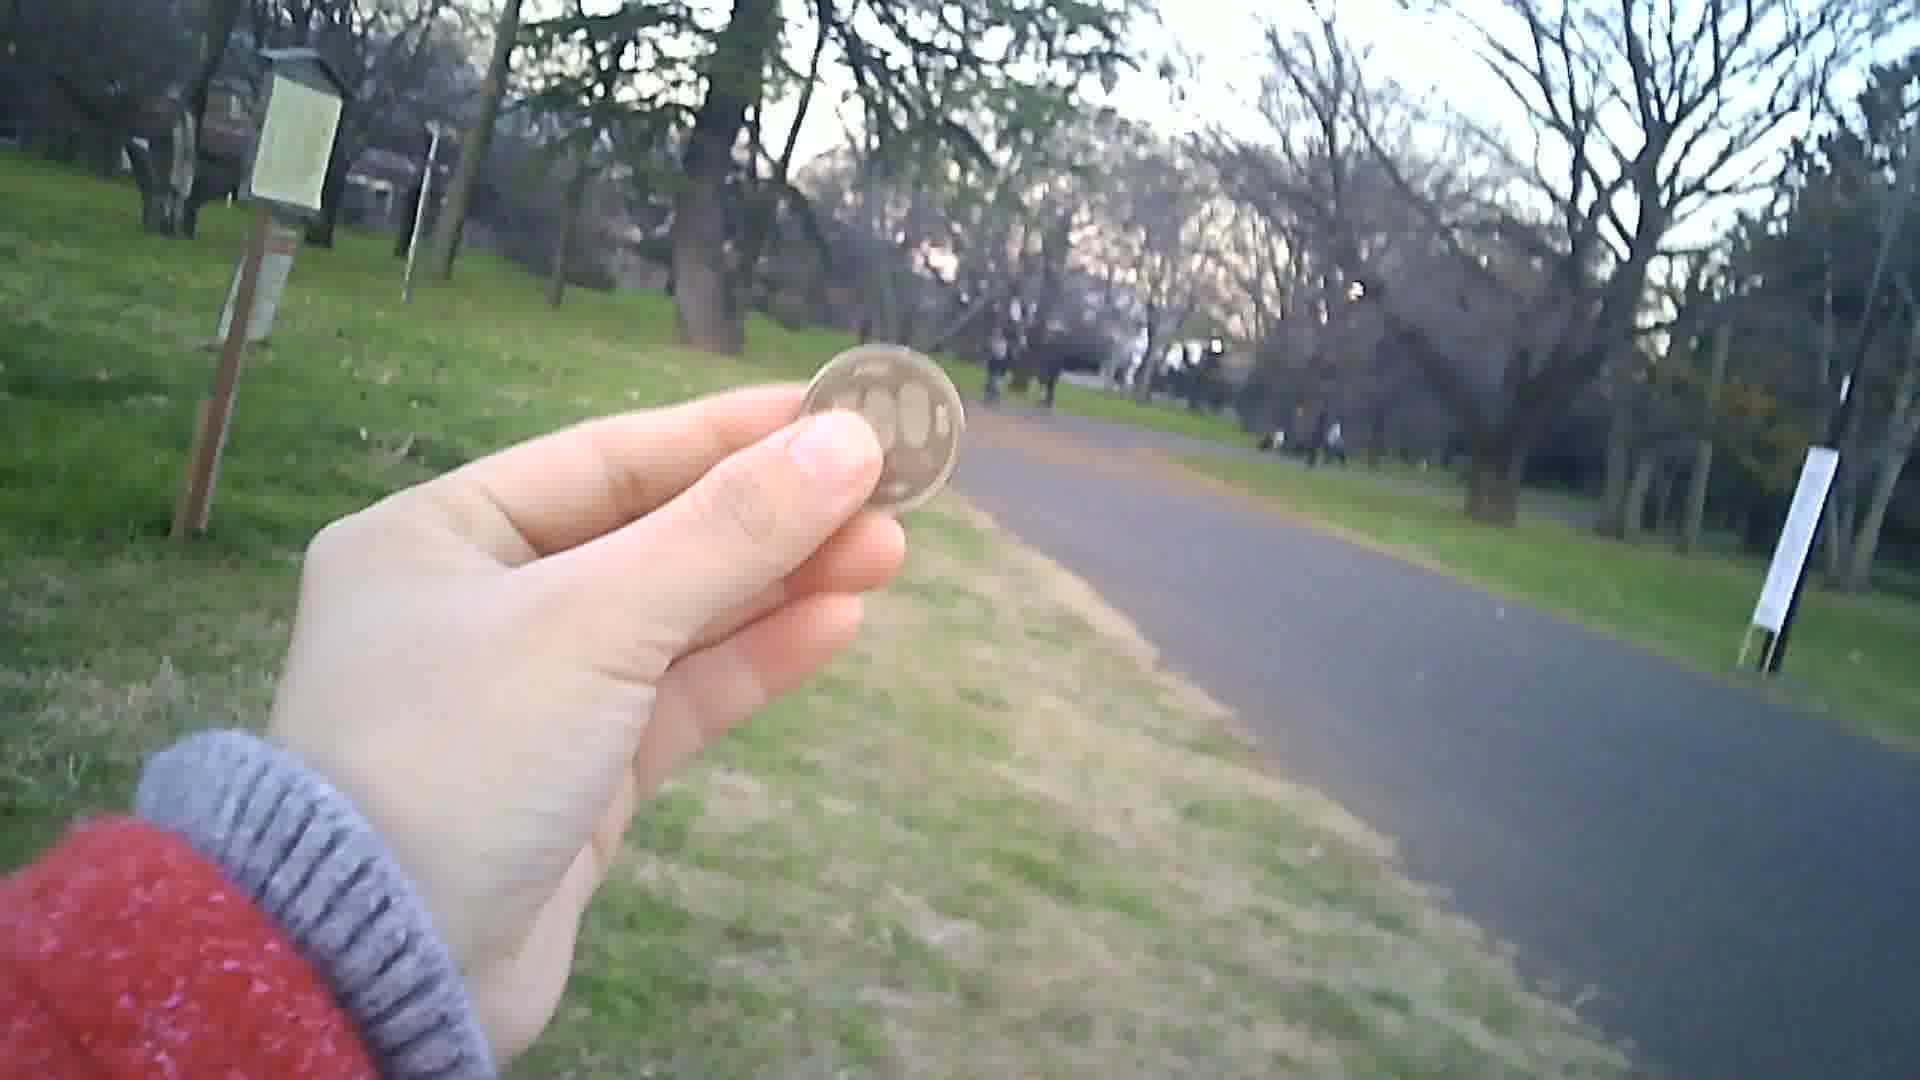500 Yen: (793, 332, 968, 522)
